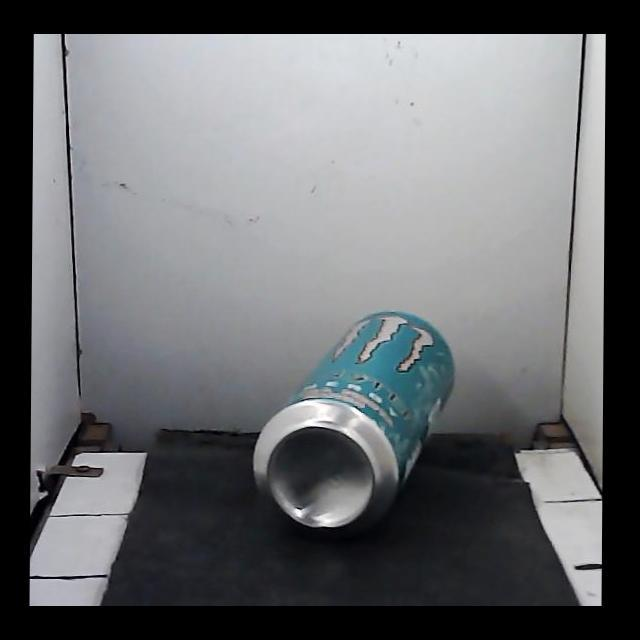metal: (253, 311, 453, 531)
